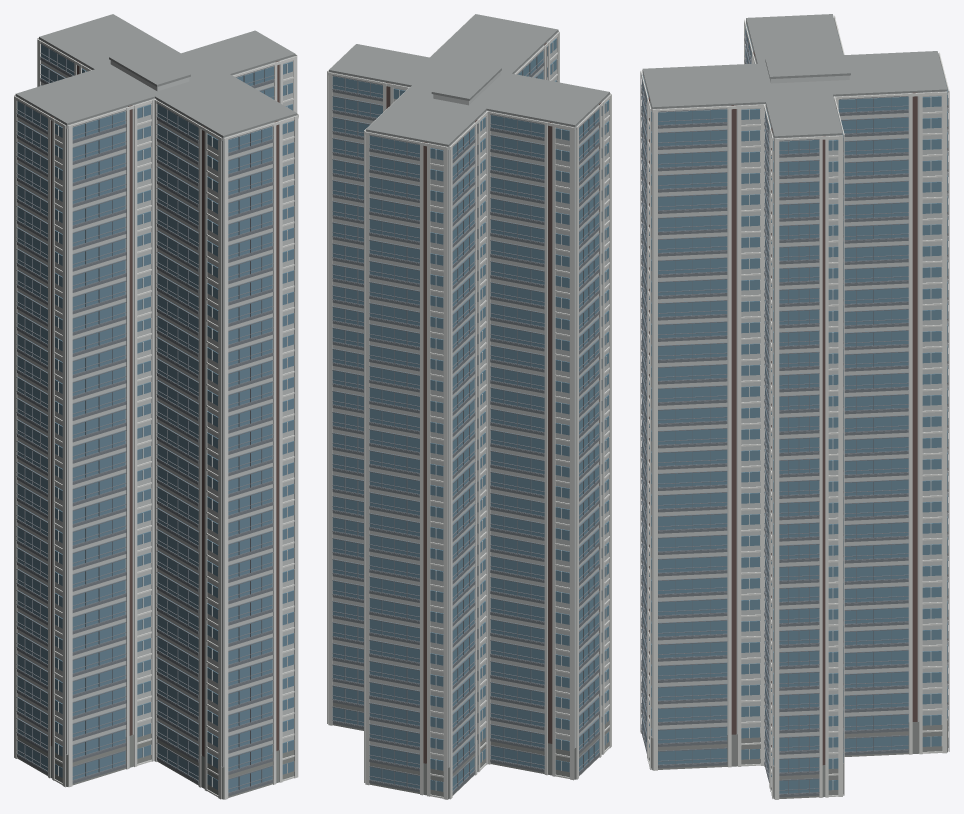
File: bespoke-acro-riverview-101.glb
The picture shows the model from 3 angles, left to right: view 1: azimuth 30°, elevation 25°; view 2: azimuth 150°, elevation 25°; view 3: azimuth 270°, elevation 25°; orthographic projection.
Parts seen in each view (by area): view 1: ARV101_editable_ARV101_blue_grey_horizontal_glazing002, ARV101_editable_ARV101_broad_white_facade_frames002, ARV101_editable_ARV101_dark_horizontal_spandrels_and_mullion, ARV101_editable_ARV101_light_grey_solid_wall002, ARV101_editable_ARV101_modest_grey_flat_roof_caps002, ARV101_editable_ARV101_recessed_brown_vertical_seams002, ARV101_editable_ARV101_muted_ground_wall002; view 2: ARV101_editable_ARV101_blue_grey_horizontal_glazing002, ARV101_editable_ARV101_dark_horizontal_spandrels_and_mullion, ARV101_editable_ARV101_broad_white_facade_frames002, ARV101_editable_ARV101_light_grey_solid_wall002, ARV101_editable_ARV101_modest_grey_flat_roof_caps002, ARV101_editable_ARV101_recessed_brown_vertical_seams002, ARV101_editable_ARV101_muted_ground_wall002; view 3: ARV101_editable_ARV101_blue_grey_horizontal_glazing002, ARV101_editable_ARV101_dark_horizontal_spandrels_and_mullion, ARV101_editable_ARV101_broad_white_facade_frames002, ARV101_editable_ARV101_light_grey_solid_wall002, ARV101_editable_ARV101_modest_grey_flat_roof_caps002, ARV101_editable_ARV101_recessed_brown_vertical_seams002, ARV101_editable_ARV101_muted_ground_wall002.
Part boxes in pixels (x1,y1,x2,y2): ARV101_editable_ARV101_blue_grey_horizontal_glazing002: [17, 44, 293, 792]; ARV101_editable_ARV101_broad_white_facade_frames002: [14, 37, 298, 799]; ARV101_editable_ARV101_dark_horizontal_spandrels_and_mullion: [16, 43, 274, 796]; ARV101_editable_ARV101_light_grey_solid_wall002: [16, 39, 297, 767]; ARV101_editable_ARV101_modest_grey_flat_roof_caps002: [15, 14, 297, 137]; ARV101_editable_ARV101_recessed_brown_vertical_seams002: [50, 61, 279, 756]; ARV101_editable_ARV101_muted_ground_wall002: [17, 733, 294, 799]; ARV101_editable_ARV101_blue_grey_horizontal_glazing002: [332, 38, 608, 791]; ARV101_editable_ARV101_dark_horizontal_spandrels_and_mullion: [332, 49, 599, 794]; ARV101_editable_ARV101_broad_white_facade_frames002: [327, 15, 611, 799]; ARV101_editable_ARV101_light_grey_solid_wall002: [329, 31, 609, 767]; ARV101_editable_ARV101_modest_grey_flat_roof_caps002: [329, 14, 609, 146]; ARV101_editable_ARV101_recessed_brown_vertical_seams002: [386, 42, 601, 763]; ARV101_editable_ARV101_muted_ground_wall002: [332, 702, 609, 799]; ARV101_editable_ARV101_blue_grey_horizontal_glazing002: [642, 24, 947, 793]; ARV101_editable_ARV101_dark_horizontal_spandrels_and_mullion: [641, 26, 948, 797]; ARV101_editable_ARV101_broad_white_facade_frames002: [640, 15, 949, 799]; ARV101_editable_ARV101_light_grey_solid_wall002: [642, 20, 947, 766]; ARV101_editable_ARV101_modest_grey_flat_roof_caps002: [642, 14, 947, 137]; ARV101_editable_ARV101_recessed_brown_vertical_seams002: [648, 26, 941, 765]; ARV101_editable_ARV101_muted_ground_wall002: [649, 718, 947, 798].
Bounding box in the file's own units: 37.19 × 93.55 × 39.13.
